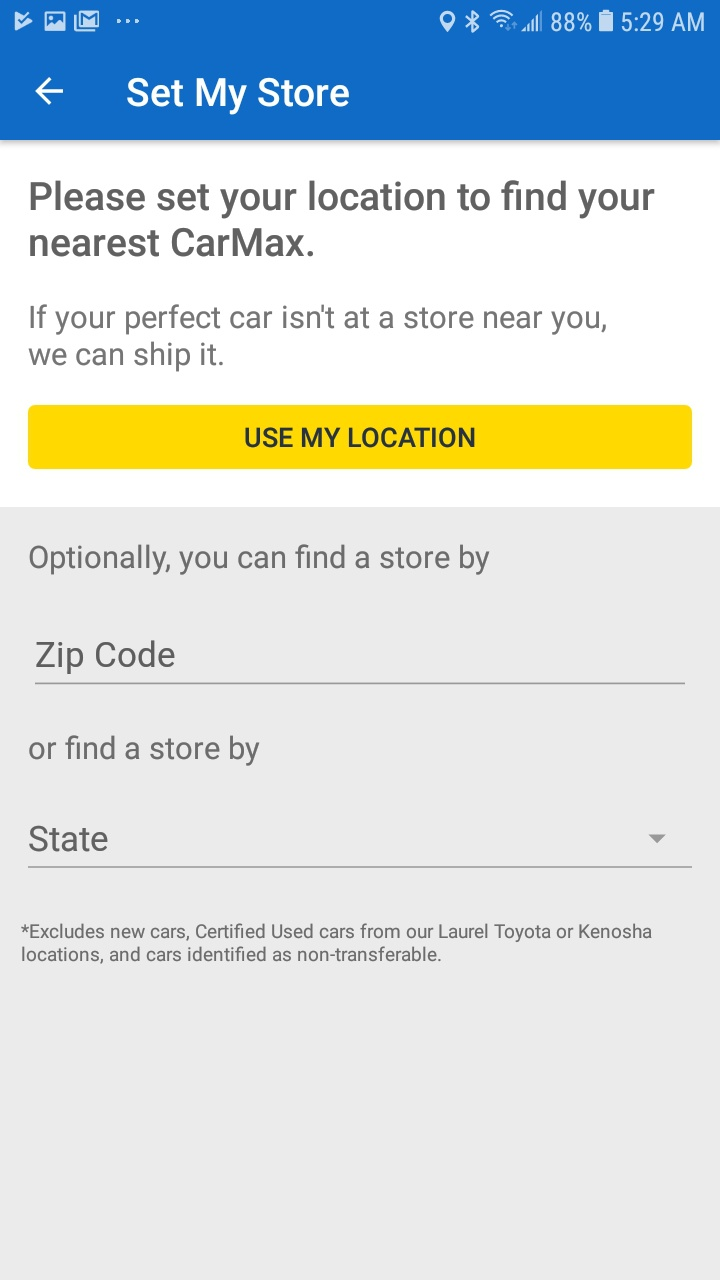EditText: (36, 639, 686, 686), (29, 825, 693, 869)
Icon: (34, 77, 64, 107), (648, 834, 667, 844)
Text: (30, 181, 655, 259), (29, 304, 607, 373), (21, 923, 652, 965), (30, 543, 491, 576), (127, 78, 350, 117), (29, 735, 261, 767), (37, 640, 176, 675), (29, 825, 109, 853)
TextButton: (28, 404, 692, 470)
UpperTaskBar: (1, 1, 720, 35)
